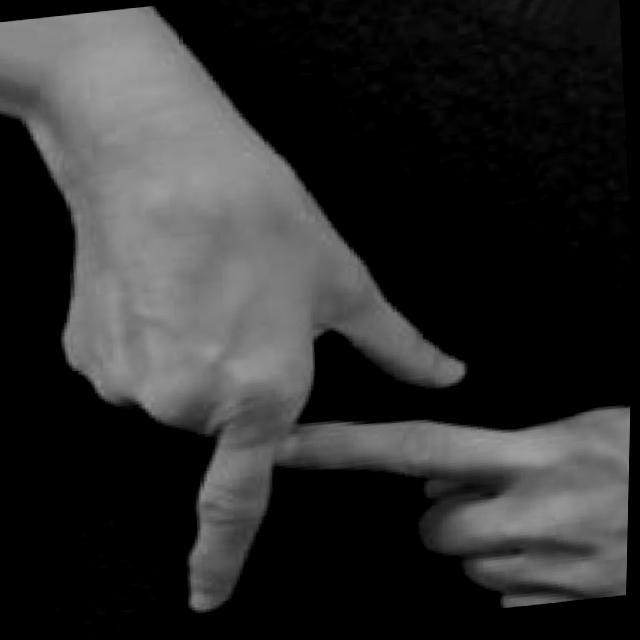F: (50, 172, 636, 638)
